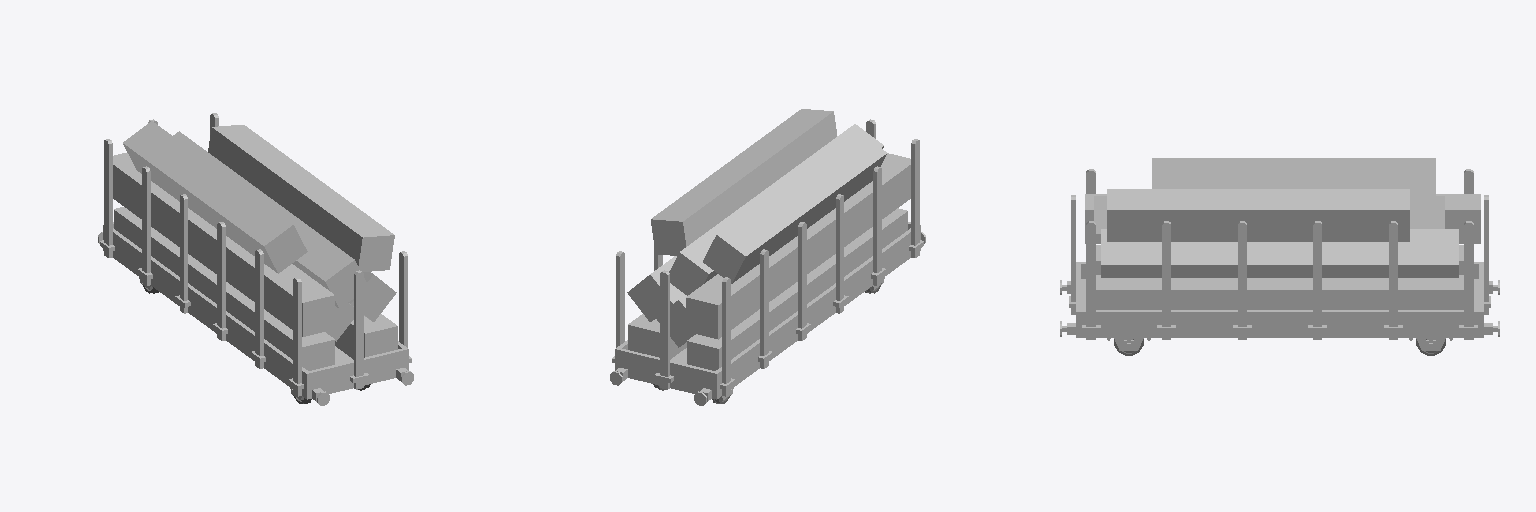
Rendered from dlxtrains_industrial_wagons_stake_type1_logs.obj.
3 views of the same model, side by side, from view 1: azimuth 30°, elevation 25°; view 2: azimuth 150°, elevation 25°; view 3: azimuth 270°, elevation 25° (orthographic).
Parts seen in each view (by area): view 1: dlxtrains_industrial_wagons_stake_type1_logs; view 2: dlxtrains_industrial_wagons_stake_type1_logs; view 3: dlxtrains_industrial_wagons_stake_type1_logs.
Boxes of the visible parts, <box> form: dlxtrains_industrial_wagons_stake_type1_logs: <box>98,113,413,405</box>; dlxtrains_industrial_wagons_stake_type1_logs: <box>610,109,925,405</box>; dlxtrains_industrial_wagons_stake_type1_logs: <box>1060,158,1499,355</box>.
Bounding box in the file's own units: 17.5 × 24.74 × 58.38.